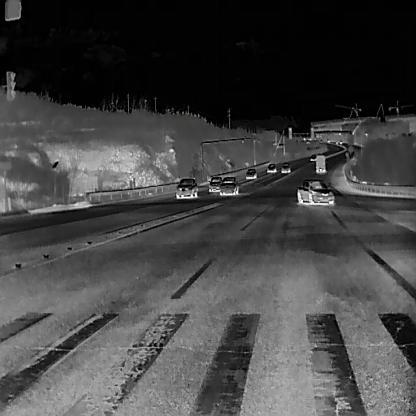car: (296, 177, 335, 205), (175, 177, 198, 198), (219, 175, 239, 195), (208, 176, 223, 192), (314, 154, 326, 173), (245, 167, 257, 179), (280, 161, 291, 173), (266, 163, 276, 173), (309, 153, 316, 161), (339, 140, 343, 144), (327, 138, 330, 142), (335, 140, 338, 144), (319, 139, 322, 142)
